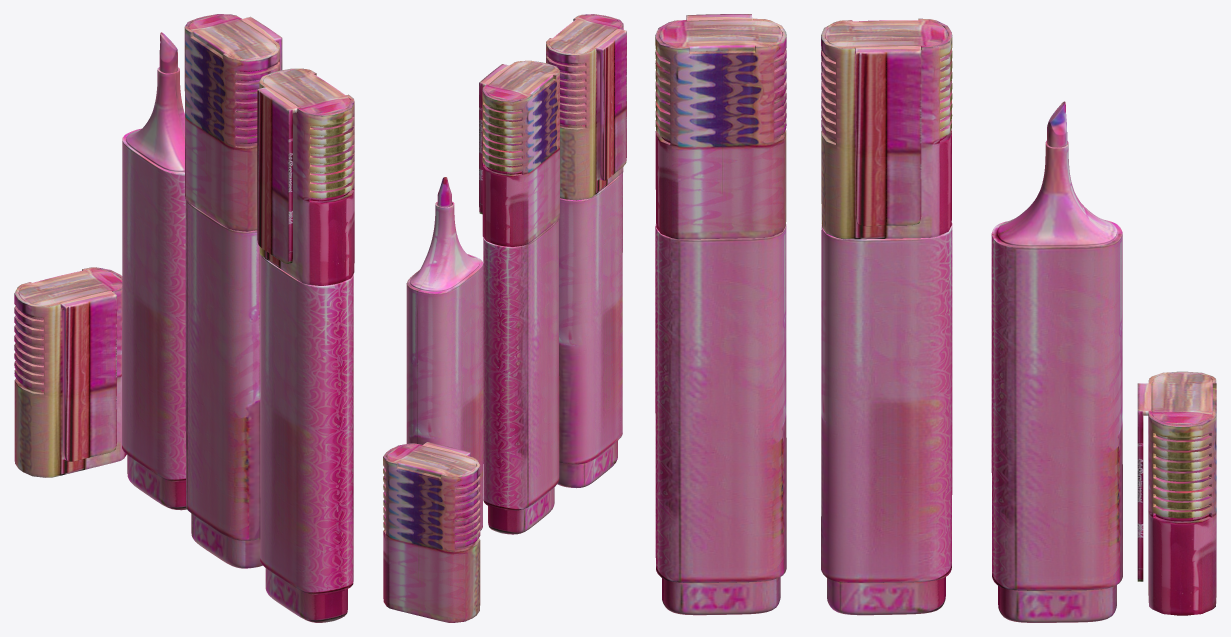
File: marker_0624191835.glb
3 renders of one model, left to right at view 1: azimuth 30°, elevation 25°; view 2: azimuth 150°, elevation 25°; view 3: azimuth 270°, elevation 25°, orthographic. The views are drawn at different scales.
Bounding box in the file's own units: 0.2414 × 1 × 0.8879.
1 material, 1 textured.
